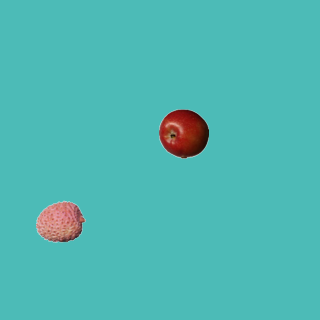Apple Braeburn: (158, 108, 208, 158)
Lychee: (35, 196, 85, 246)
